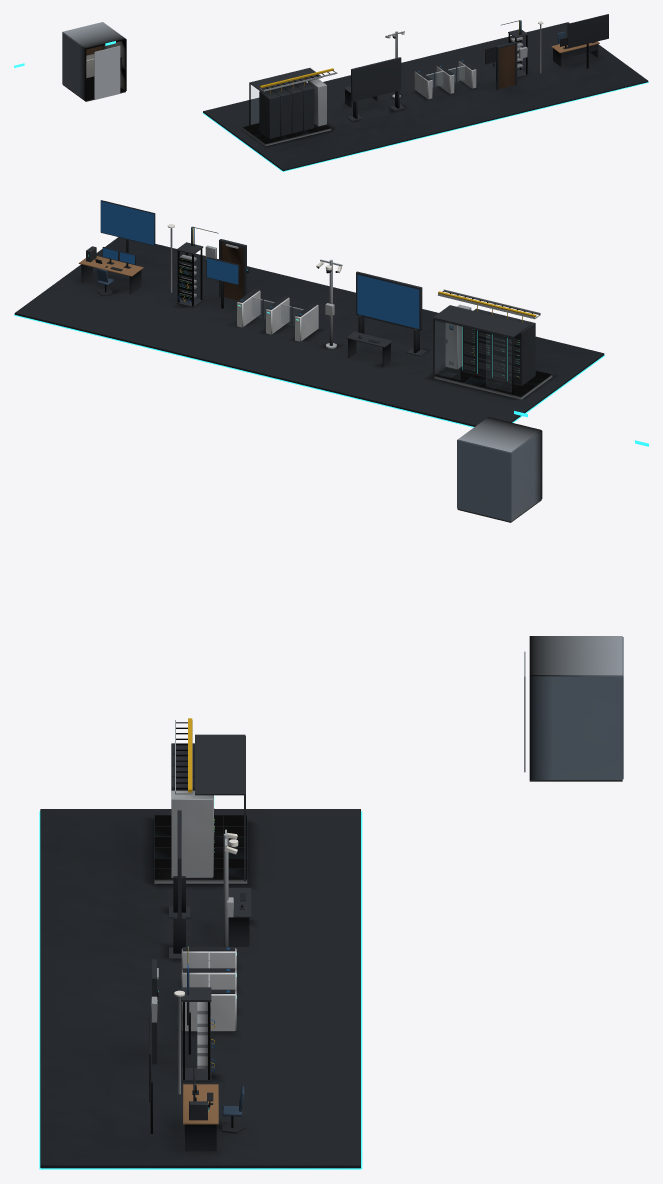
Rendered from ex_ict.glb.
3 renders of one model, top to bottom at view 1: azimuth 30°, elevation 25°; view 2: azimuth 150°, elevation 25°; view 3: azimuth 270°, elevation 25°, orthographic. The views are drawn at different scales.
Visible parts, largest first — view 1: static.plinth, static.paint_dark, lift_cabin.steel, static.plastic_dark, static.paint_grey, static.stainless, lift_cabin.white, static.wood_dark, liftDoorL.steel, liftDoorR.steel, accent_strip.accent, static.galv (+3 smaller); view 2: static.plinth, static.paint_dark, lift_cabin.steel, static.plastic_dark, static.paint_grey, glass_ex.glass_clear, scr_cctv.screen, static.stainless, scr_erp.screen, lift_cabin.white, static.castiron, static.galv (+4 smaller); view 3: static.plinth, static.paint_dark, lift_cabin.steel, static.paint_grey, lift_cabin.white, static.stainless, accent_strip.accent, static.plastic_dark, static.galv, static.wood.
Boxes of the visible parts, x1,y1,x2,y2 form: static.plinth: (203,22,648,171); static.paint_dark: (243,29,598,144); lift_cabin.steel: (62,32,126,100); static.plastic_dark: (415,14,608,80); static.paint_grey: (242,37,527,145); static.stainless: (414,61,476,99); lift_cabin.white: (63,22,125,49); static.wood_dark: (499,45,515,88); liftDoorL.steel: (94,49,107,99); liftDoorR.steel: (107,46,120,96); accent_strip.accent: (202,82,648,171); static.galv: (259,24,541,98); static.plinth: (14,237,604,426); static.paint_dark: (81,239,551,396); lift_cabin.steel: (457,430,542,521); static.plastic_dark: (95,200,520,384); static.paint_grey: (179,245,552,399); glass_ex.glass_clear: (435,321,511,392); scr_cctv.screen: (357,274,419,328); static.stainless: (225,244,318,341); scr_erp.screen: (101,201,154,245); lift_cabin.white: (457,417,541,452); static.castiron: (179,261,520,378); static.galv: (170,228,540,348); static.plinth: (40,809,360,1168); static.paint_dark: (152,734,251,1151); lift_cabin.steel: (529,637,623,779); static.paint_grey: (151,790,247,1068); lift_cabin.white: (529,636,622,676); static.stainless: (157,948,236,1031); accent_strip.accent: (39,811,362,1169); static.plastic_dark: (149,808,245,1133); static.galv: (175,720,228,1094); static.wood: (183,1084,218,1124).
Bounding box in the file's own units: 28.32 × 3.58 × 13.85.
